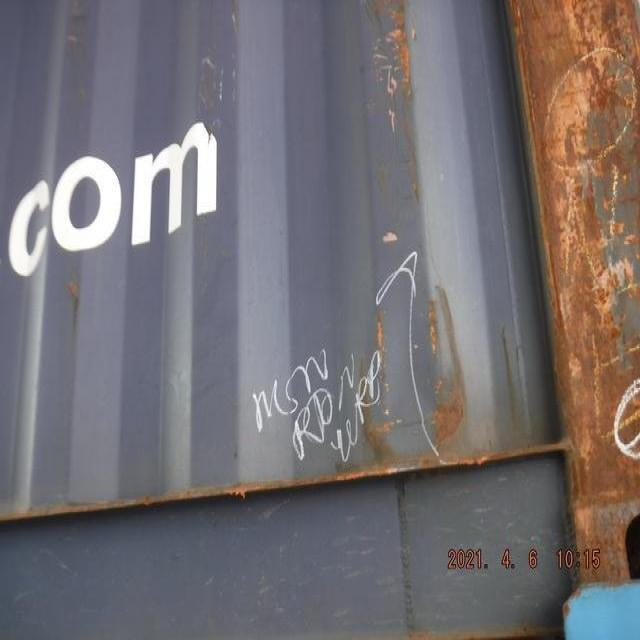Minor-Dent: (284, 284, 502, 464)
